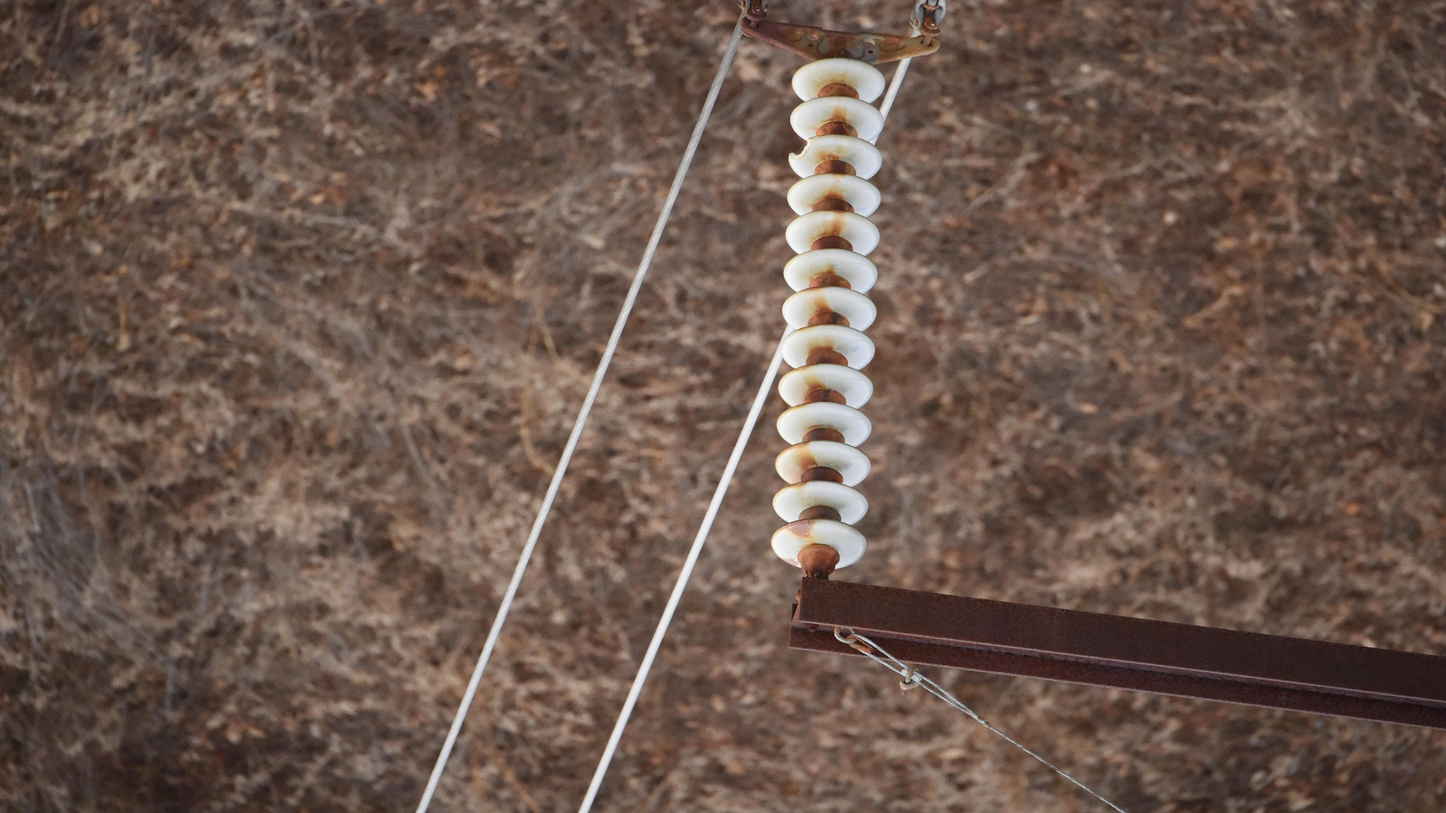insulator: (764, 53, 889, 577)
insulator_breakage: (786, 136, 817, 163)
